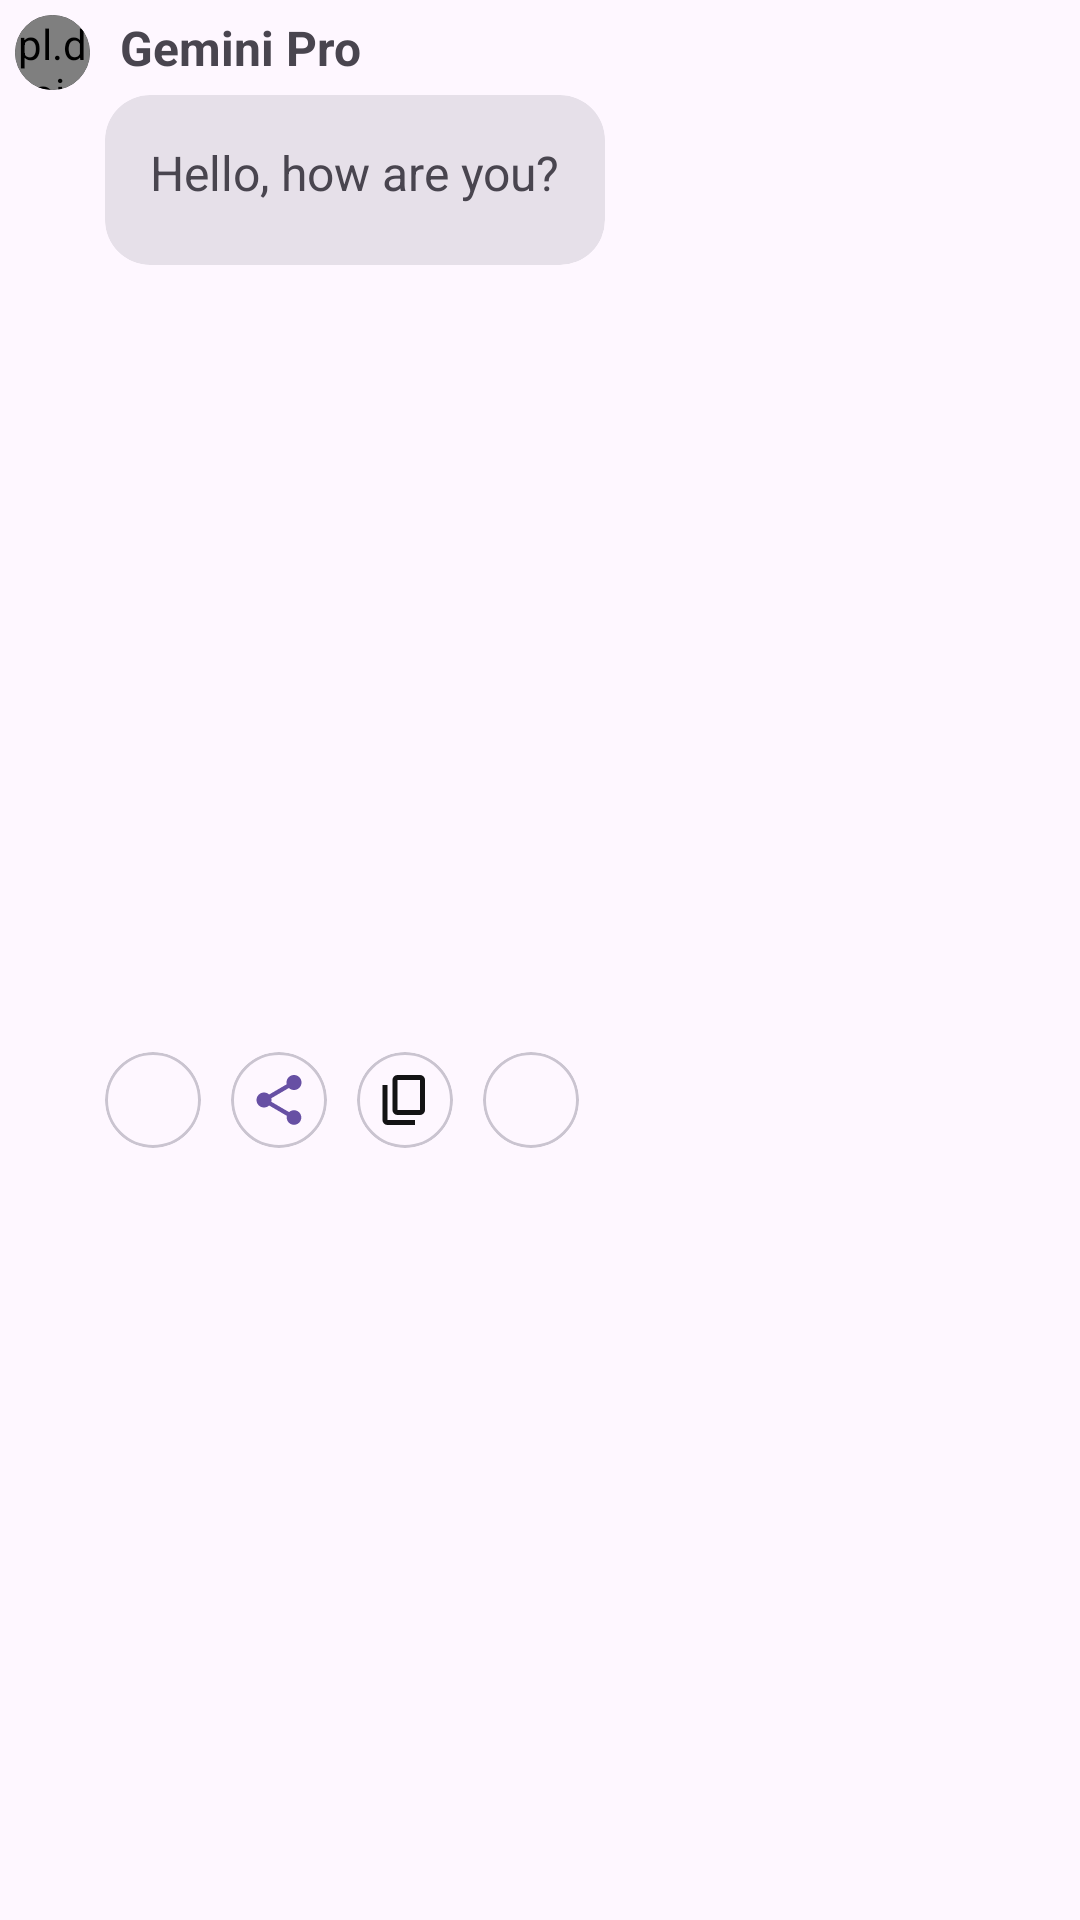

Named icons in this screenshot (1080px x 1920px) and their centers, [x,y]:
share: [279,1100]
